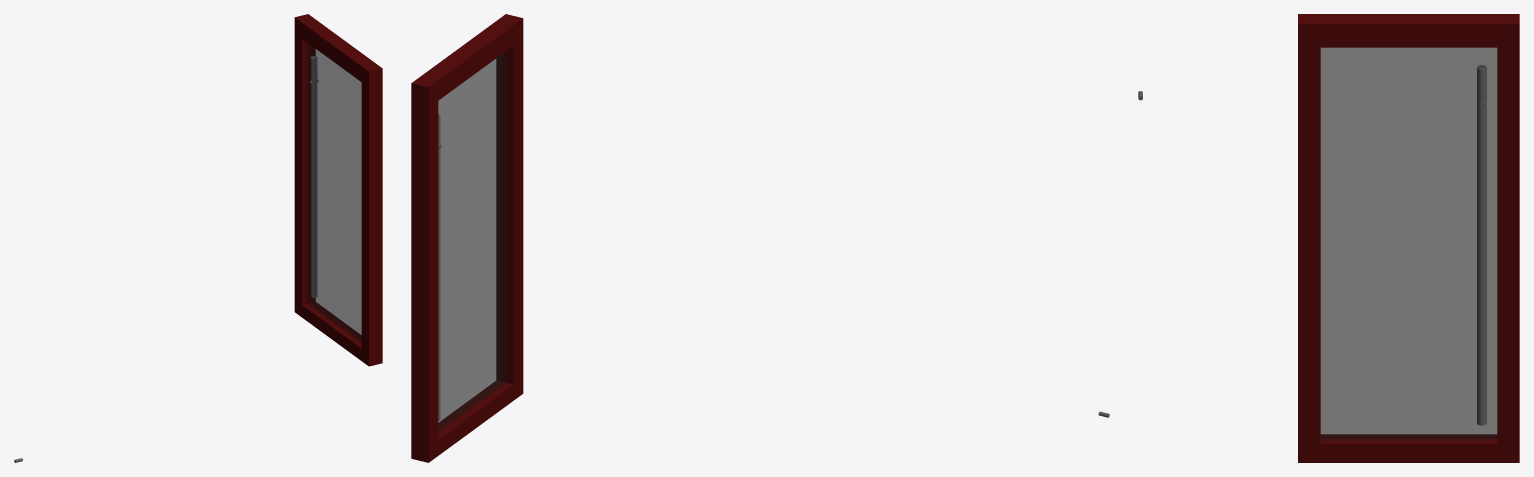
The model's file is tabakTuer_position.dae.
3 renders of one model, left to right at view 1: azimuth 30°, elevation 25°; view 2: azimuth 150°, elevation 25°; view 3: azimuth 270°, elevation 25°, orthographic. The views are drawn at different scales.
Visible parts, largest first — view 1: door1, pCube1, pCylinder1; view 2: door1, pCube1, pCylinder1; view 3: pCube1, door1, pCylinder1.
Part boxes in pixels (x1,y1,x2,y2): door1: (294, 14, 382, 366); pCube1: (307, 43, 361, 342); pCylinder1: (311, 56, 316, 297); door1: (411, 14, 523, 462); pCube1: (438, 51, 506, 432); pCylinder1: (438, 114, 440, 420); pCube1: (1320, 47, 1497, 440); door1: (1298, 14, 1519, 462); pCylinder1: (1477, 65, 1486, 425).
Bounding box in the file's own units: 2.97 × 1.99 × 1.57.
